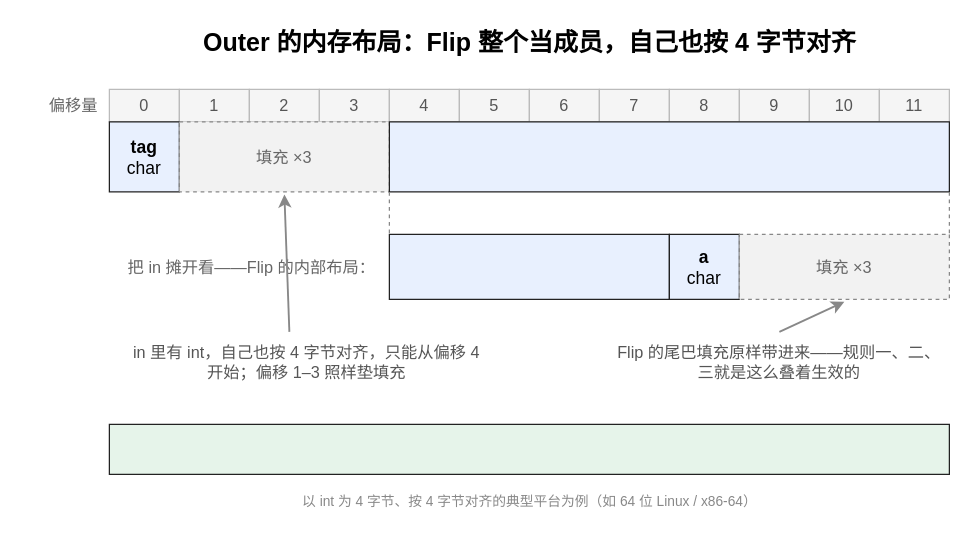
Some shapes in this 973 by 535 pixel diagram are drawn without their labels. The shapes that lost their labels are listed below. From the top down, each one's centre as x and y in pixels, then its label:
the point at 668,156: in Flip（8 字节）
the point at 528,266: b int（4 字节）
the point at 528,448: tag 1 字节 + 填充 3 字节 + in 8 字节，算下来 sizeof(Outer) = 12
